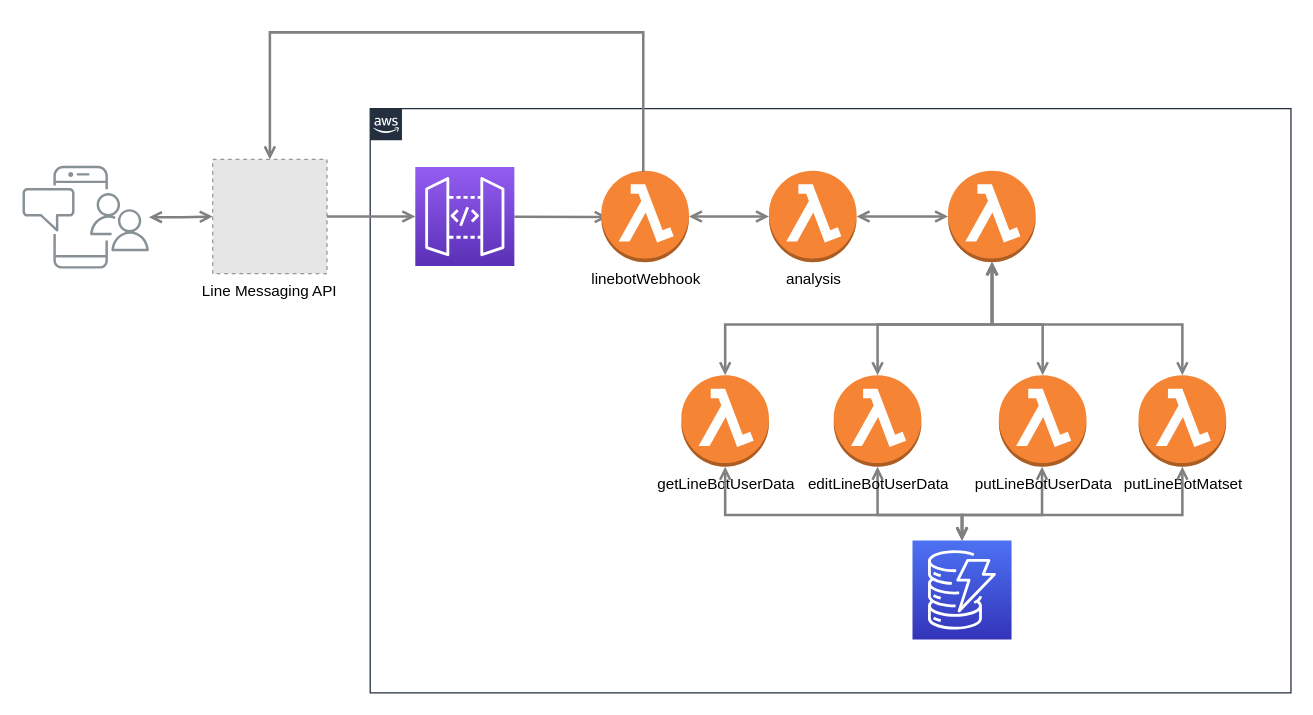
Some shapes in this 1313 by 715 pixel diagram are drawn without their labels. Grey dashed boxes stand in for pictures. Here are the shapes that lost their labels. From the top down, the centre of each, then its label:
At (85,216): "Line app".
At (464,216): "API Gateway".
At (991,216): "getReplyMessage".
At (961,589): "DynamoDB".
